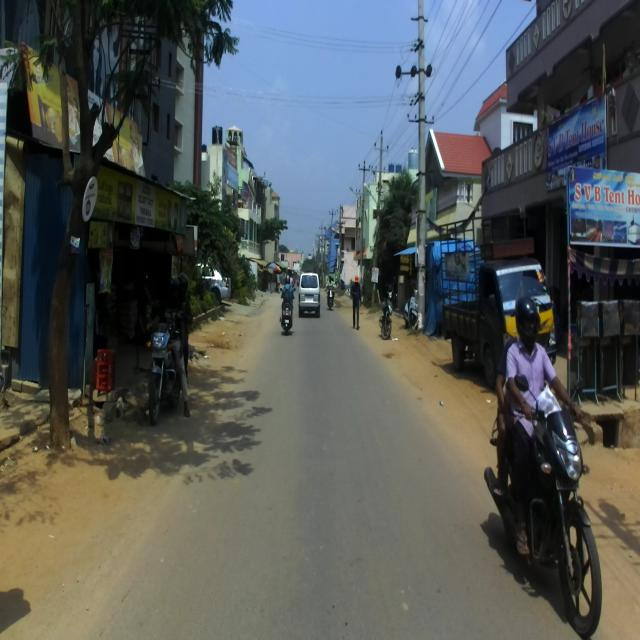motorcycle ahead at: (484, 365, 603, 635), (144, 322, 195, 427)
tree ahead at: (43, 129, 101, 468)
